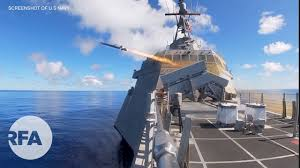tau_muctieu: (134, 31, 300, 168)
ten_lua: (99, 36, 133, 56)
